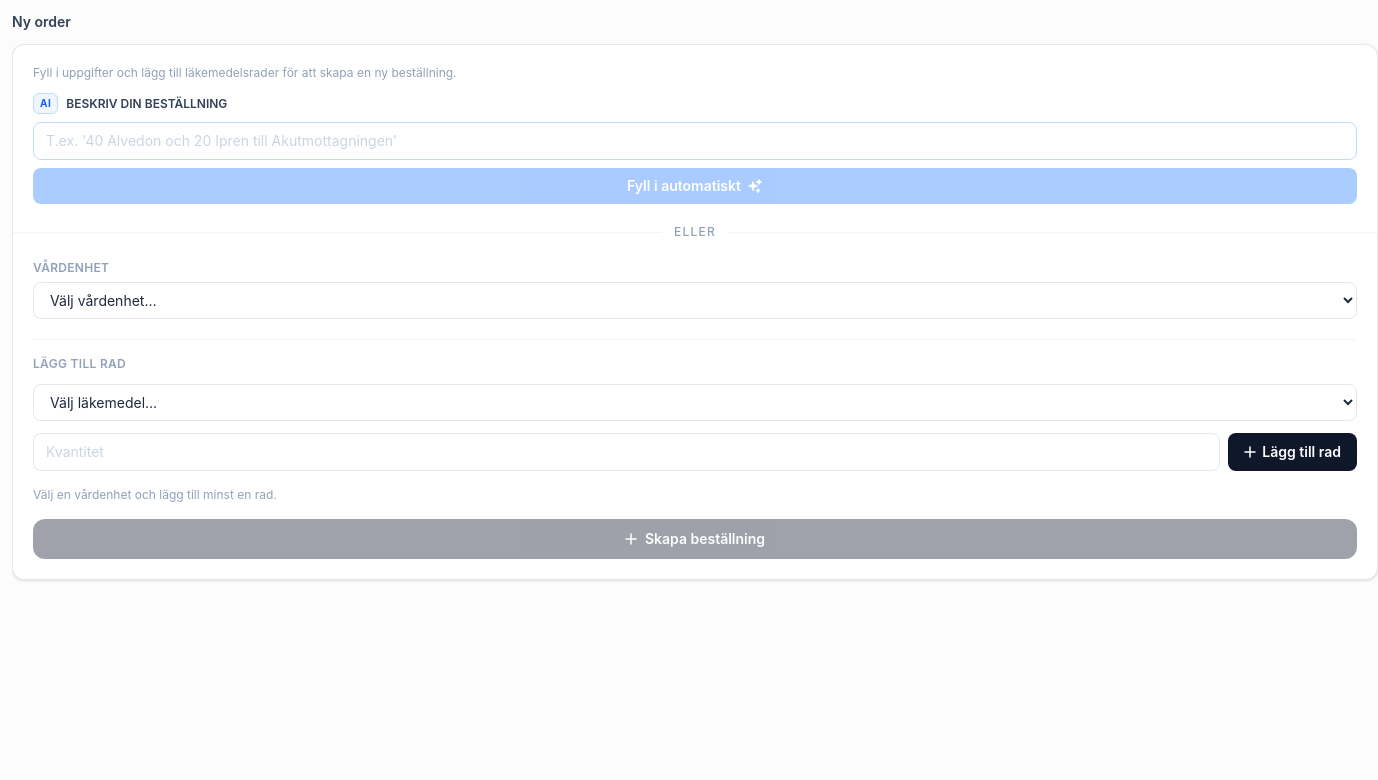
it: NewOrderPanel › save button disabled state › becomes enabled once a care unit is selected and at least one row is added
Select "Avdelning 1A" in the 1st dropdown at [695, 300], box [33,282,1357,319]
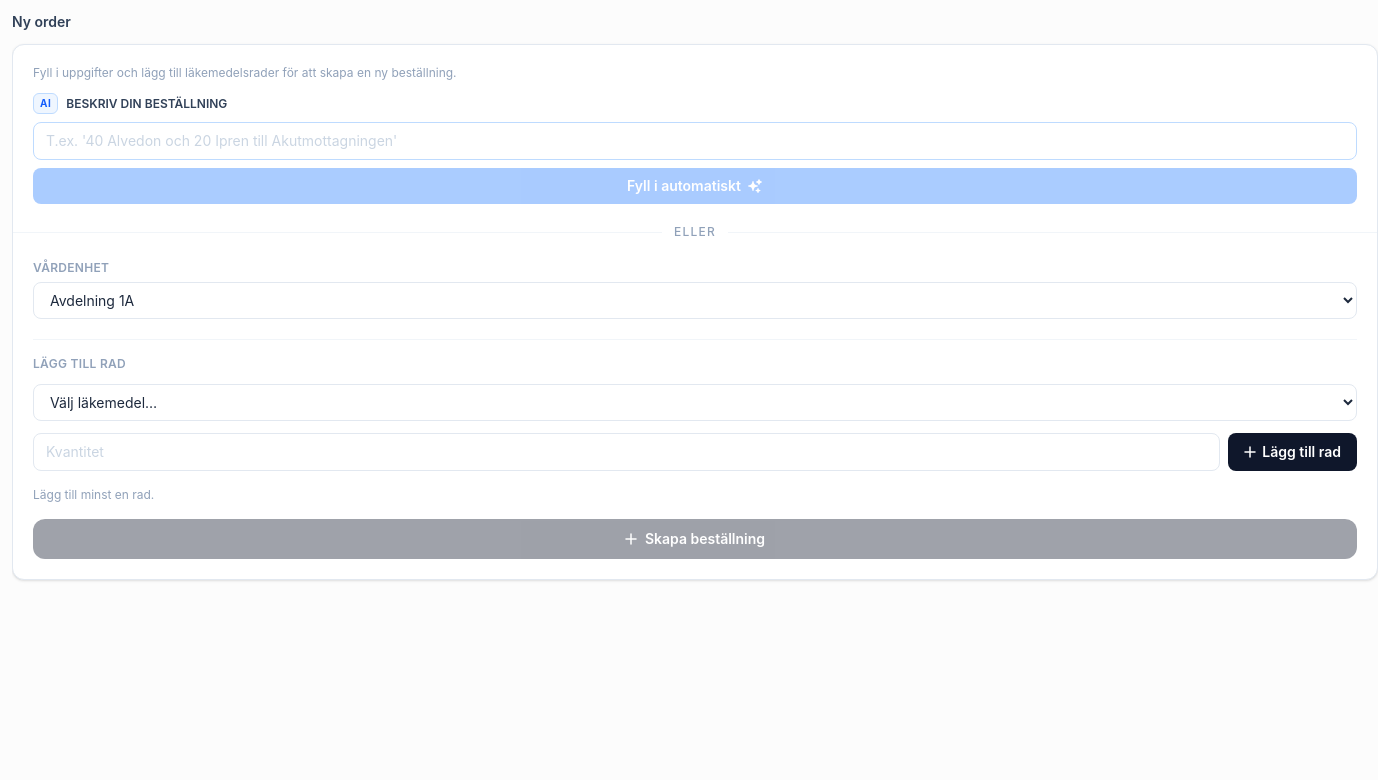
Select "Avdelning 1A" in the dropdown below "Vårdenhet" at [695, 300], box [33,282,1357,319]
Select "Alvedon · 500 mg (Tablett)" in the 2nd dropdown at [695, 402], box [33,384,1357,421]
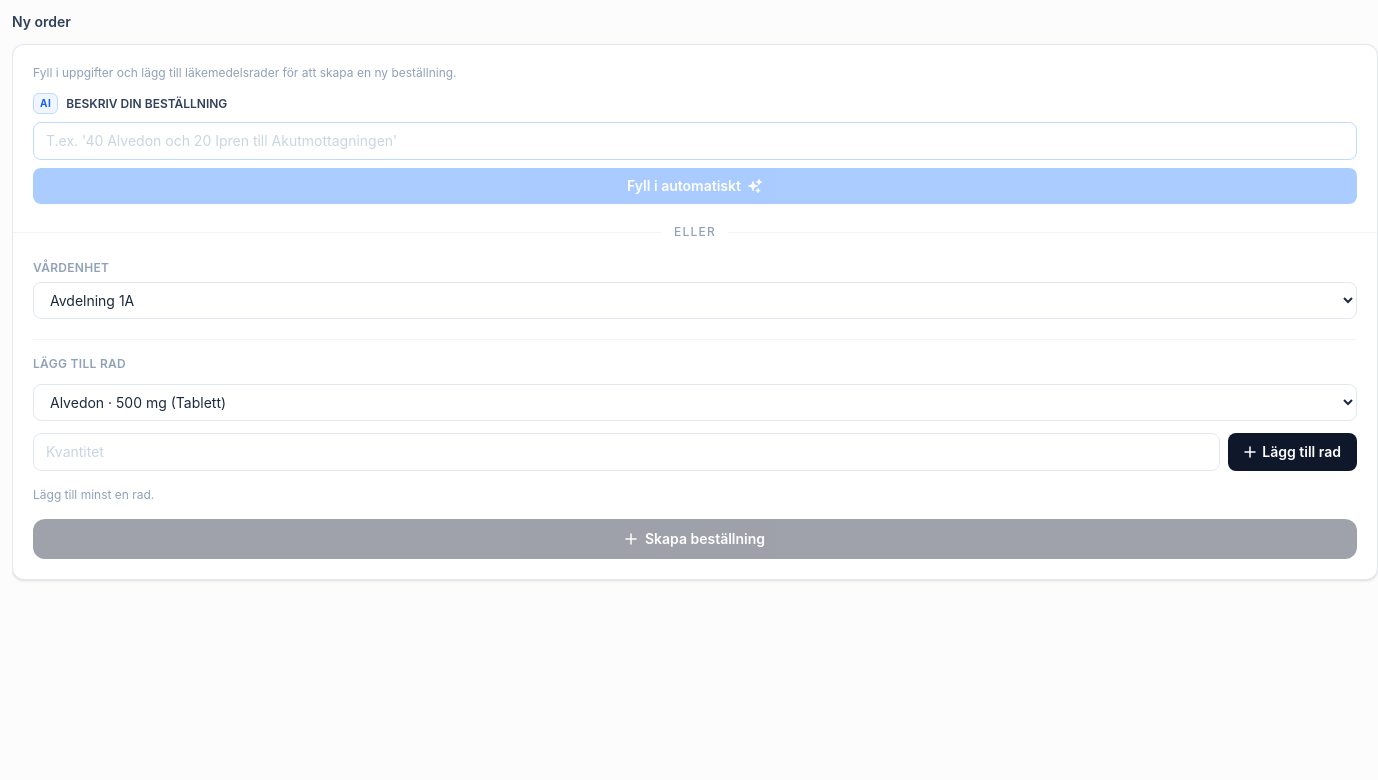
Type "10" into the number field with placeholder "Kvantitet" at [627, 452], box [33,433,1220,471]
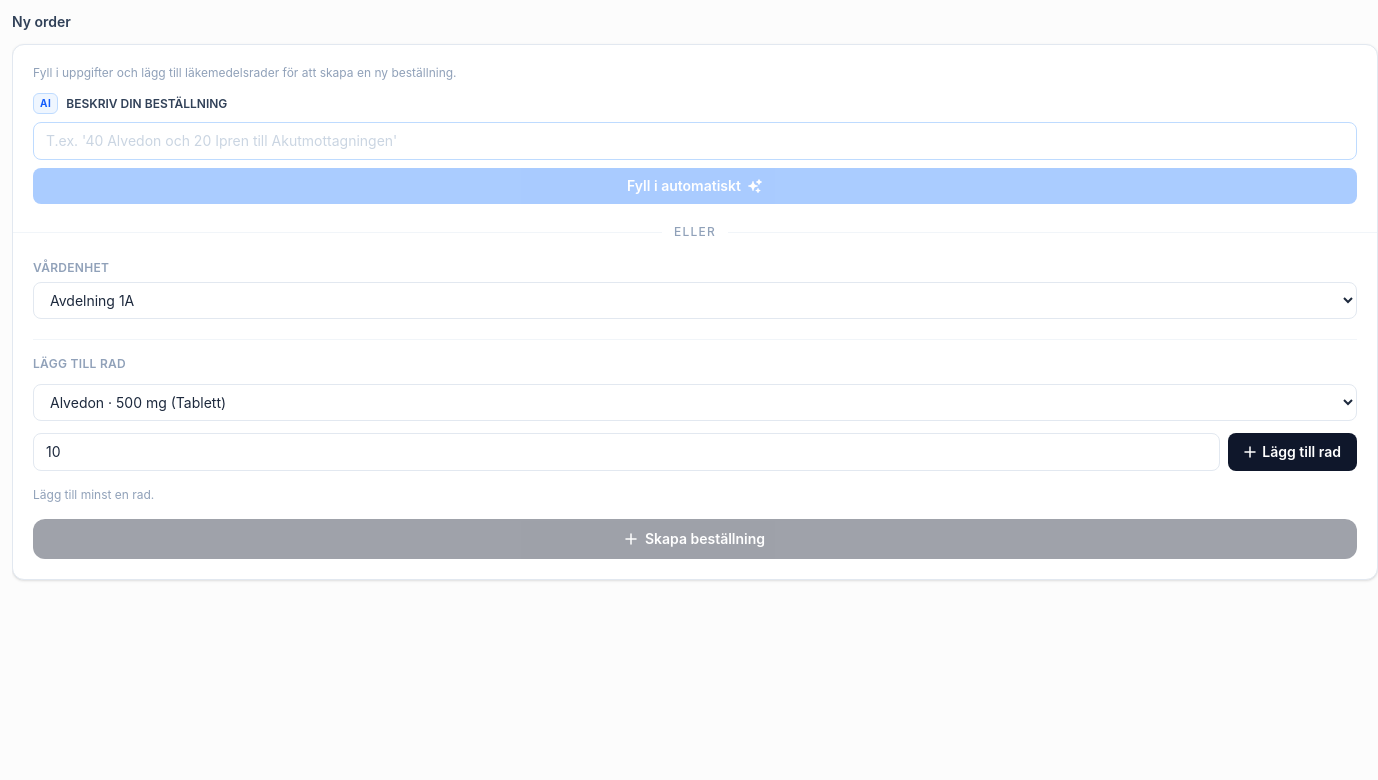
Click the button "Lägg till rad" at [1293, 452], box [1228,433,1357,471]
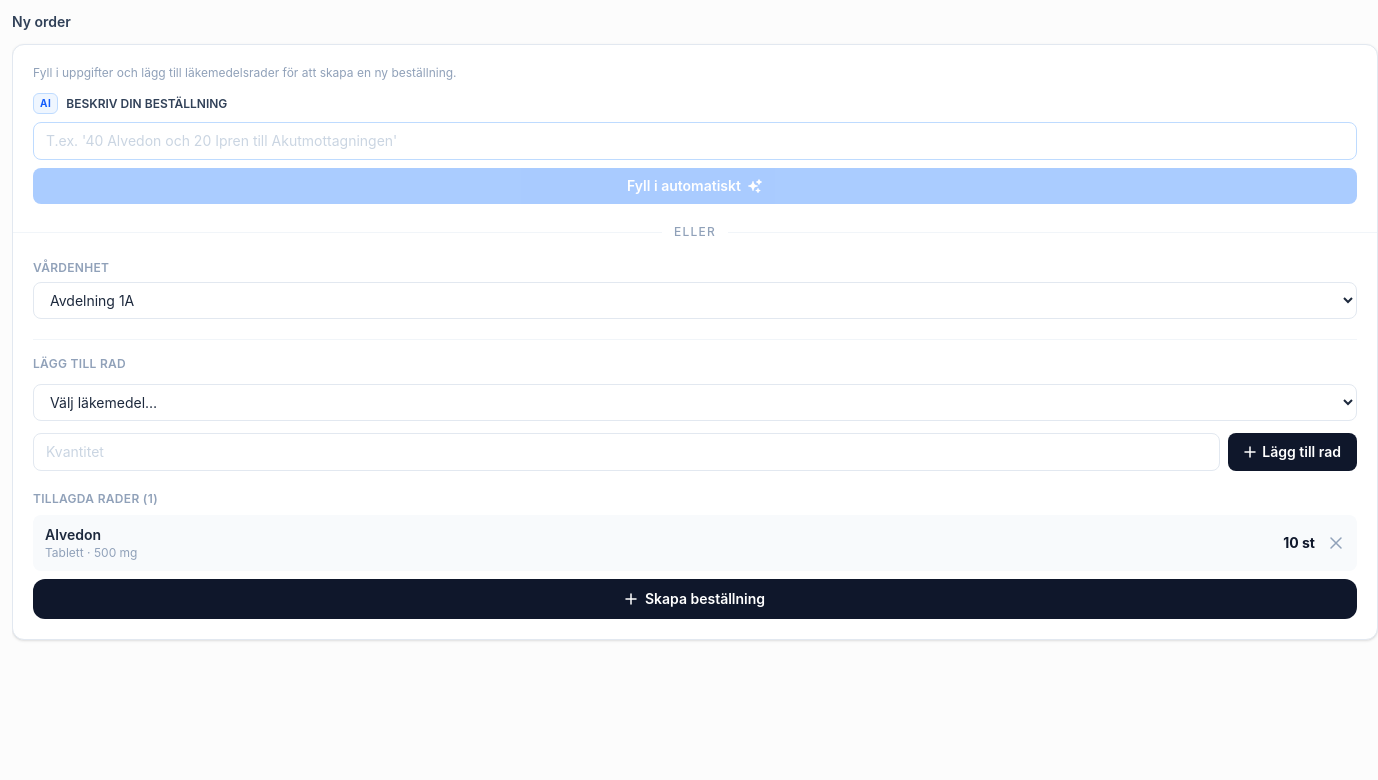
Check: the button "Skapa beställning" is enabled, box [33,579,1357,619]
